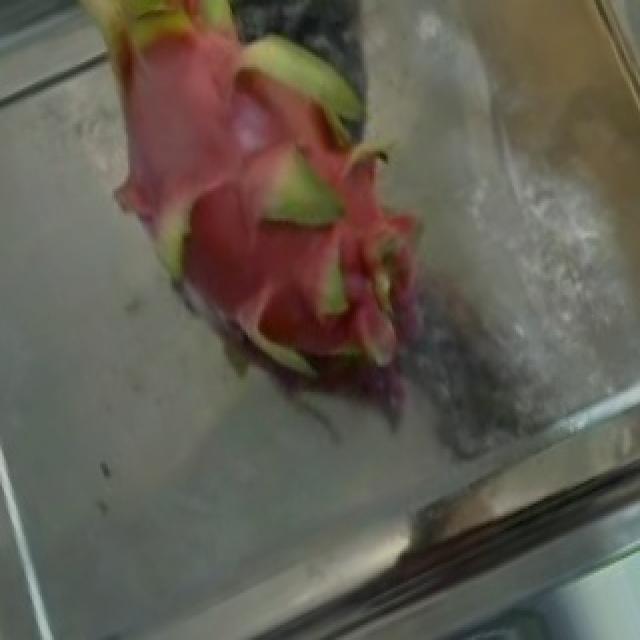fruit: (14, 0, 448, 414)
